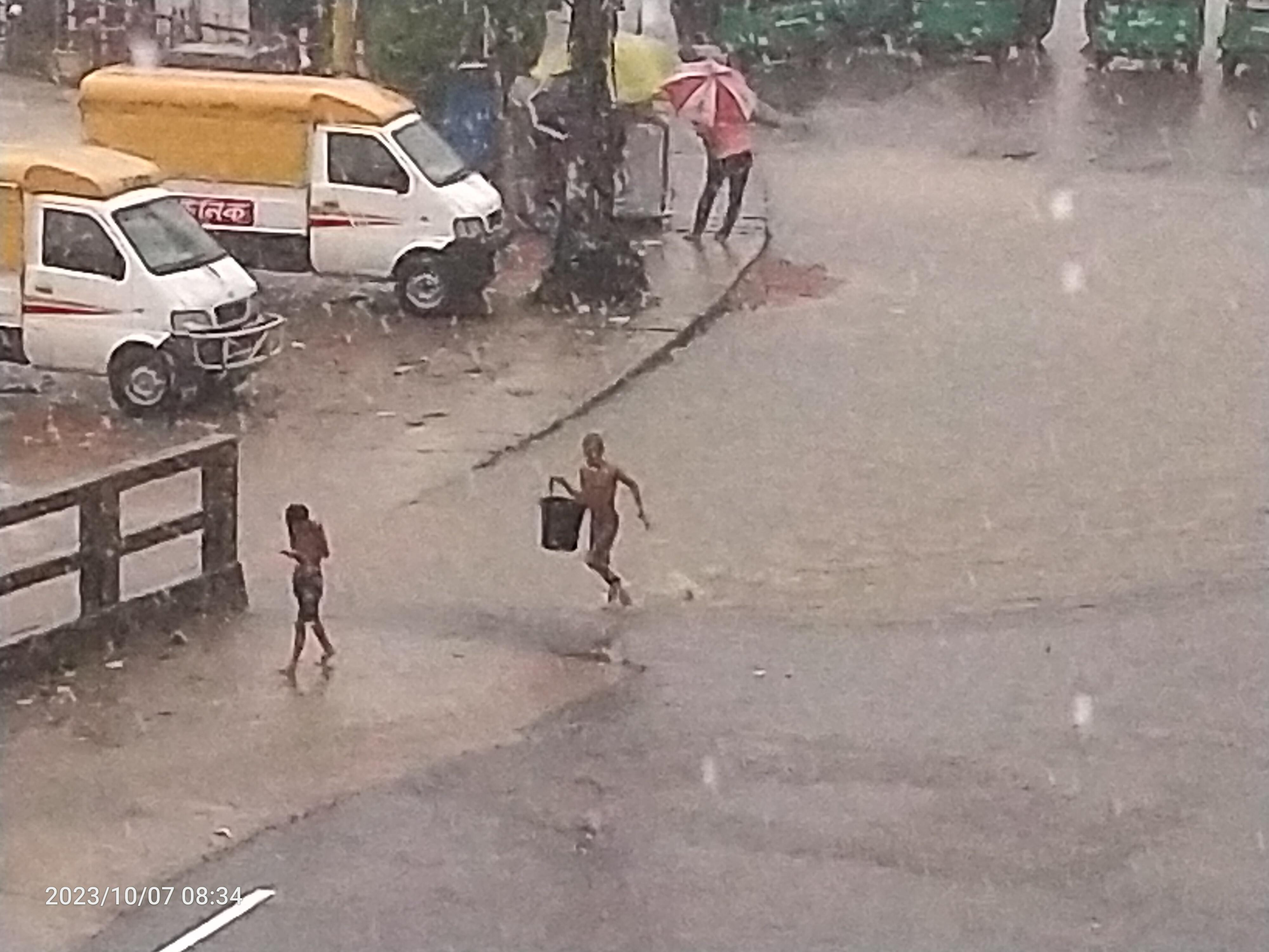Car: (57, 0, 544, 344), (0, 128, 301, 429)
